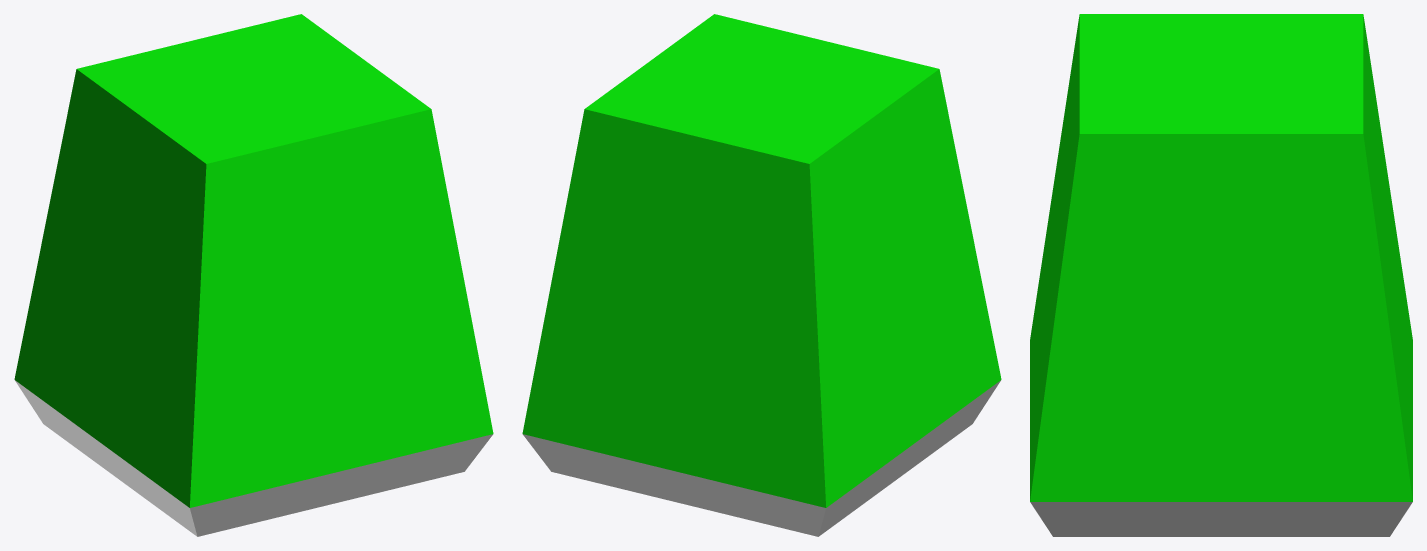
Rendered from Green_pipe.fbx.
3 renders of one model, left to right at view 1: azimuth 30°, elevation 25°; view 2: azimuth 150°, elevation 25°; view 3: azimuth 270°, elevation 25°, orthographic. The views are drawn at different scales.
Parts seen in each view (by area): view 1: Cube.005; view 2: Cube.005; view 3: Cube.005.
Part boxes in pixels (x1,y1,x2,y2): Cube.005: (14,14,493,536); Cube.005: (522,14,1001,536); Cube.005: (1030,14,1412,536).
Bounding box in the file's own units: 200 × 226 × 200.
